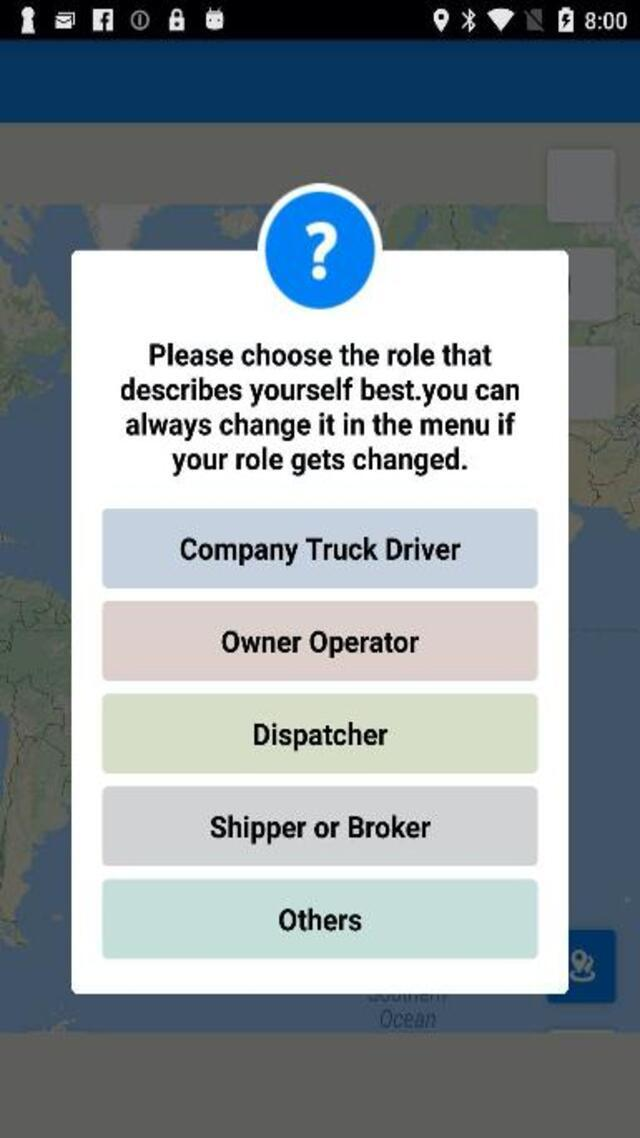Icon: (258, 182, 379, 316)
Text: (115, 374, 526, 409), (122, 411, 519, 445), (173, 532, 463, 568), (167, 447, 471, 480), (140, 342, 497, 370), (206, 807, 434, 847), (218, 629, 424, 660), (246, 719, 394, 755), (270, 902, 366, 939)
TextButton: (100, 507, 538, 588), (103, 600, 539, 680), (103, 880, 539, 959), (101, 694, 537, 772), (101, 786, 537, 864)
